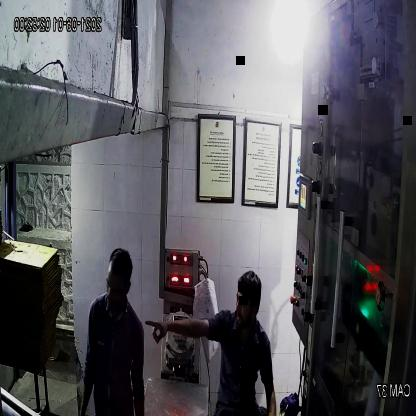no_goggles: (236, 290, 260, 313)
